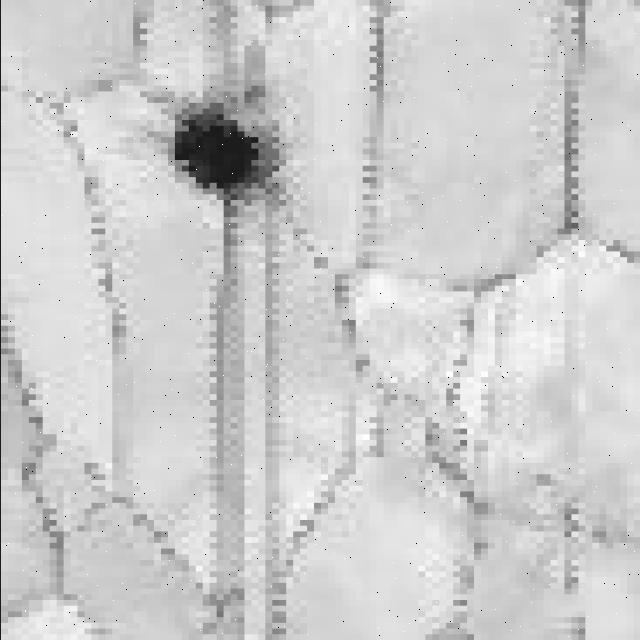good_void: (156, 77, 301, 220)
